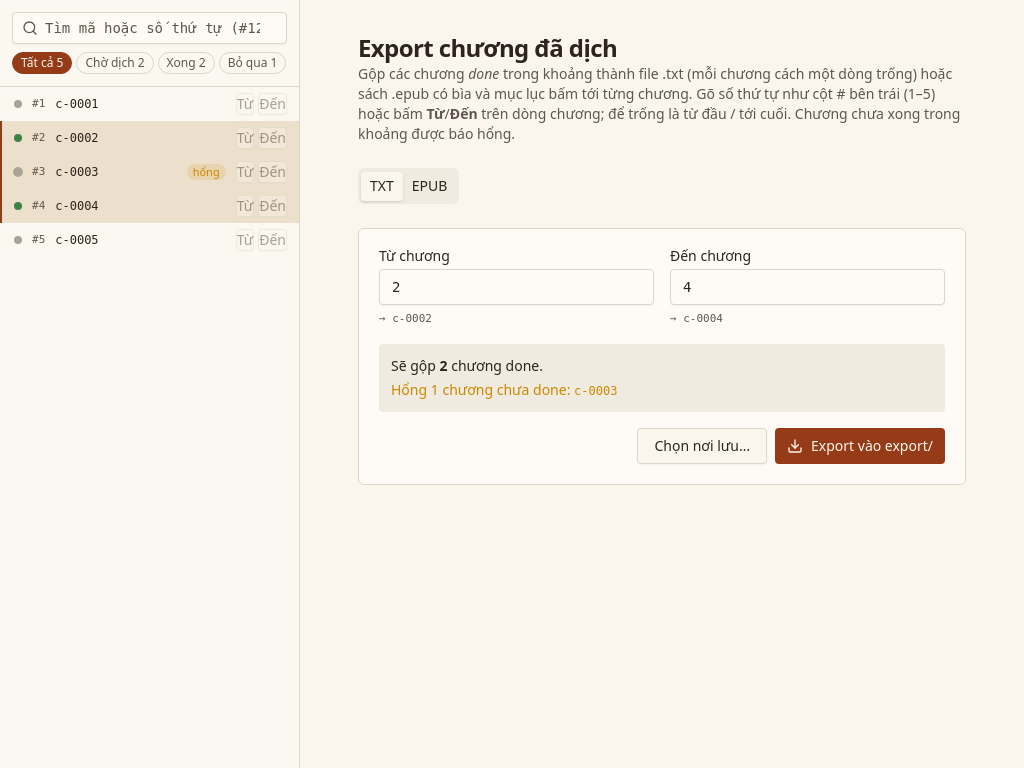
Test: ExportPage › bấm Từ/Đến trong danh sách đổi ô nhập và tô khoảng
The width and height of the screenshot is (1024, 768).
Click the button with aria-label "Từ chương #1".
click(245, 104)  # box [236, 93, 254, 115]
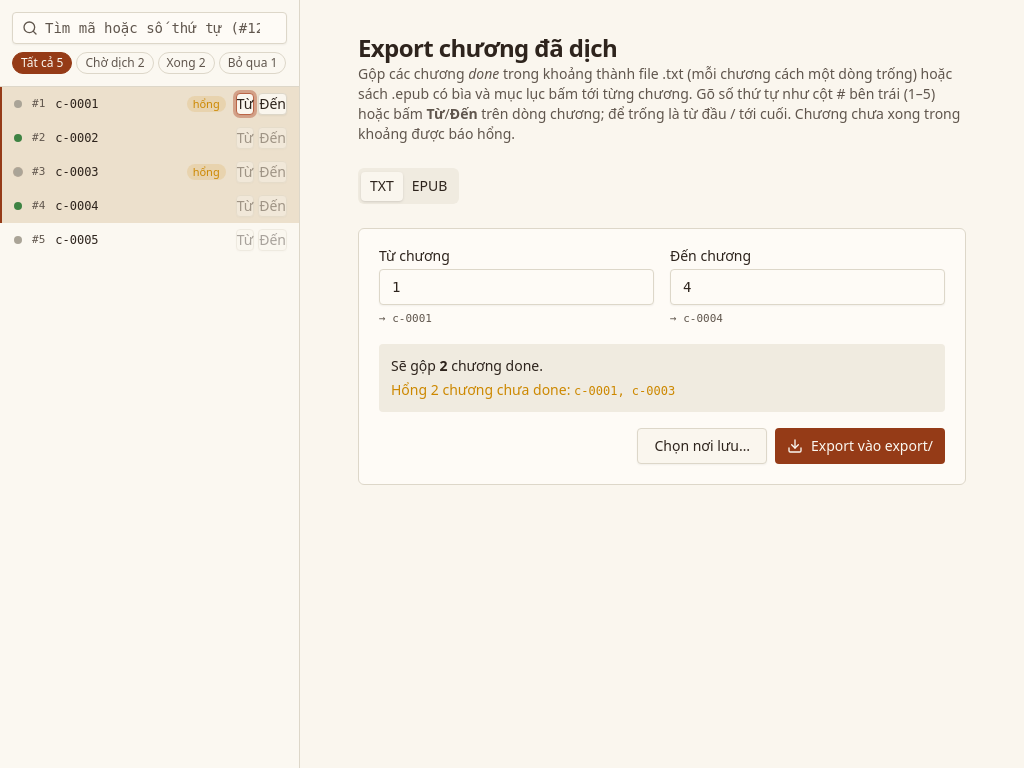
Click the button with aria-label "Đến chương #5".
click(273, 240)  # box [258, 229, 287, 251]
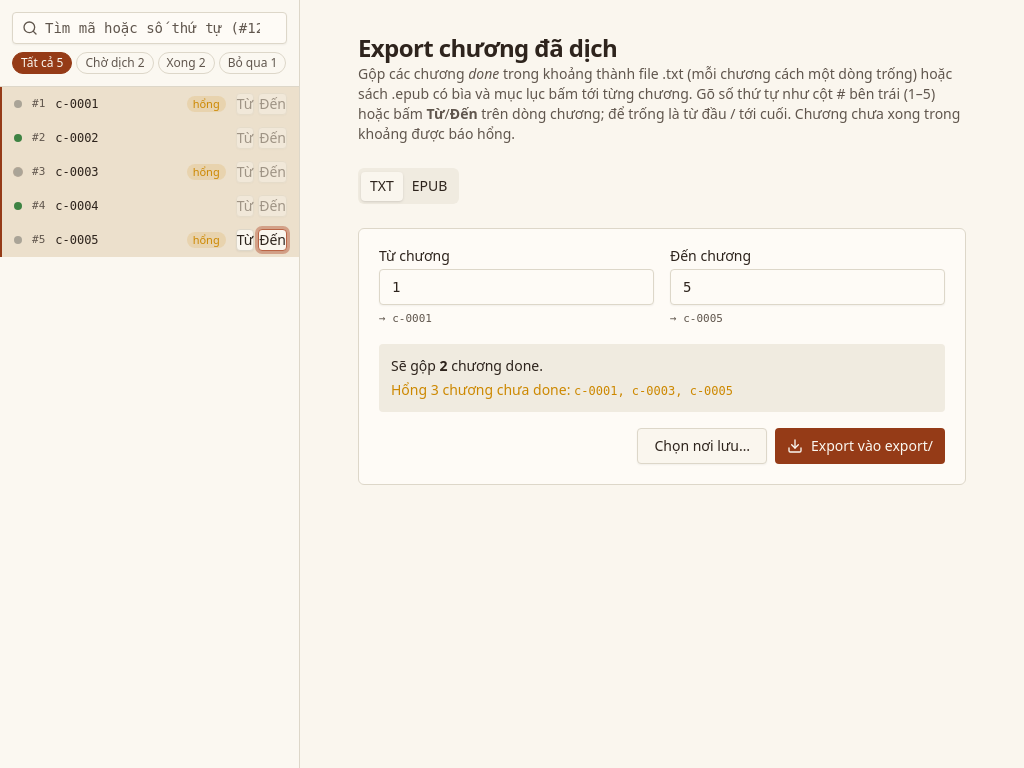
Check: the field labelled "Từ chương" holds "1", box [379, 269, 654, 305]
Check: the field labelled "Đến chương" holds "5", box [670, 269, 945, 305]
